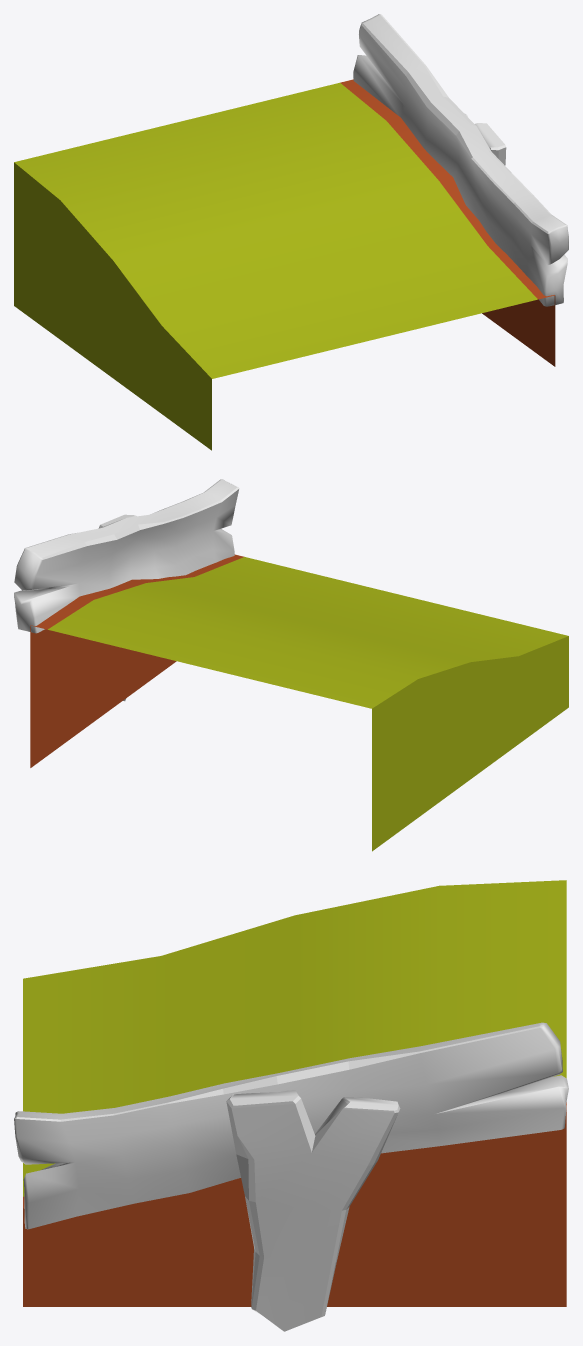
Rendered from SB_Straight_UpH_Begin_End02.fbx.
3 renders of one model, top to bottom at view 1: azimuth 30°, elevation 25°; view 2: azimuth 150°, elevation 25°; view 3: azimuth 270°, elevation 25°, orthographic. The views are drawn at different scales.
Visible parts, largest first — view 1: Cube.005; view 2: Cube.005; view 3: Cube.005.
Part boxes in pixels (bbox=[...]): Cube.005: bbox=[14, 14, 568, 450]; Cube.005: bbox=[14, 479, 568, 851]; Cube.005: bbox=[14, 880, 568, 1331].
Size of the model in its own units: 217 by 123 by 204.
